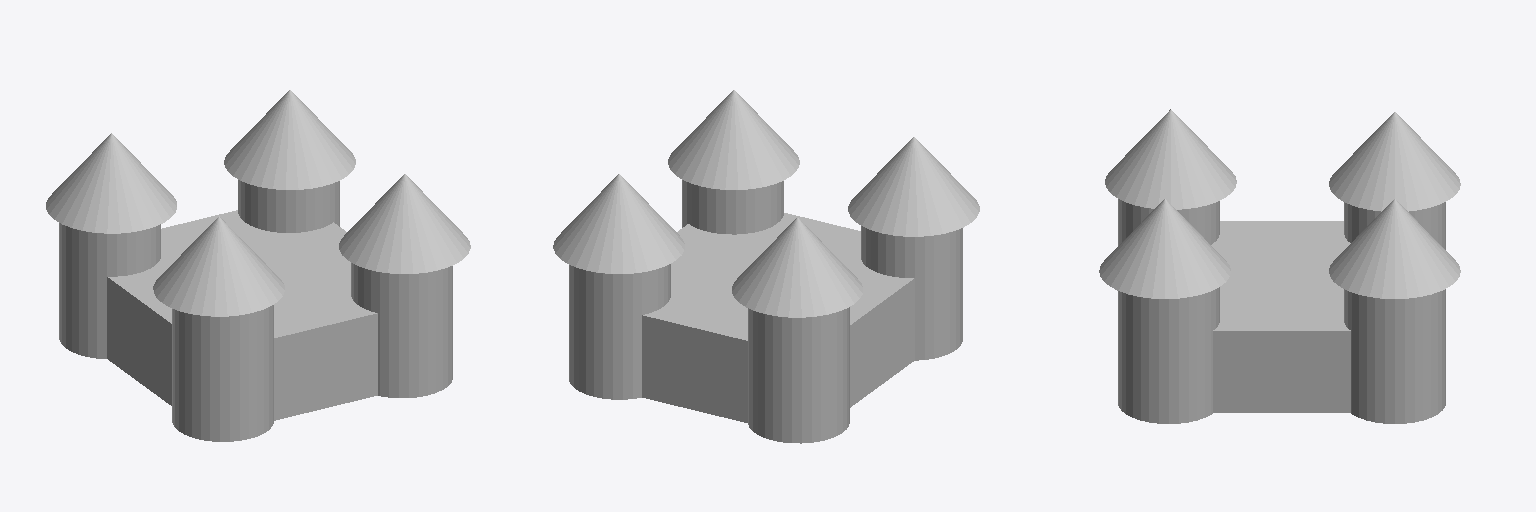
Rendered from palace.obj.
3 views of the same model, side by side, from view 1: azimuth 30°, elevation 25°; view 2: azimuth 150°, elevation 25°; view 3: azimuth 270°, elevation 25° (orthographic).
Visible parts, largest first — view 1: Cylinder.002, Cone.001, Cube; view 2: Cylinder.002, Cone.001, Cube; view 3: Cone.001, Cylinder.002, Cube.
Part boxes in pixels (x1,y1,x2,y2): Cylinder.002: (59, 180, 452, 441); Cone.001: (46, 90, 470, 316); Cube: (107, 210, 377, 420); Cylinder.002: (569, 180, 962, 443); Cone.001: (553, 90, 979, 317); Cube: (642, 213, 914, 422); Cone.001: (1099, 109, 1460, 298); Cylinder.002: (1118, 199, 1445, 423); Cube: (1211, 221, 1350, 412).
Size of the model in its own units: 6.71 by 4.41 by 7.07.